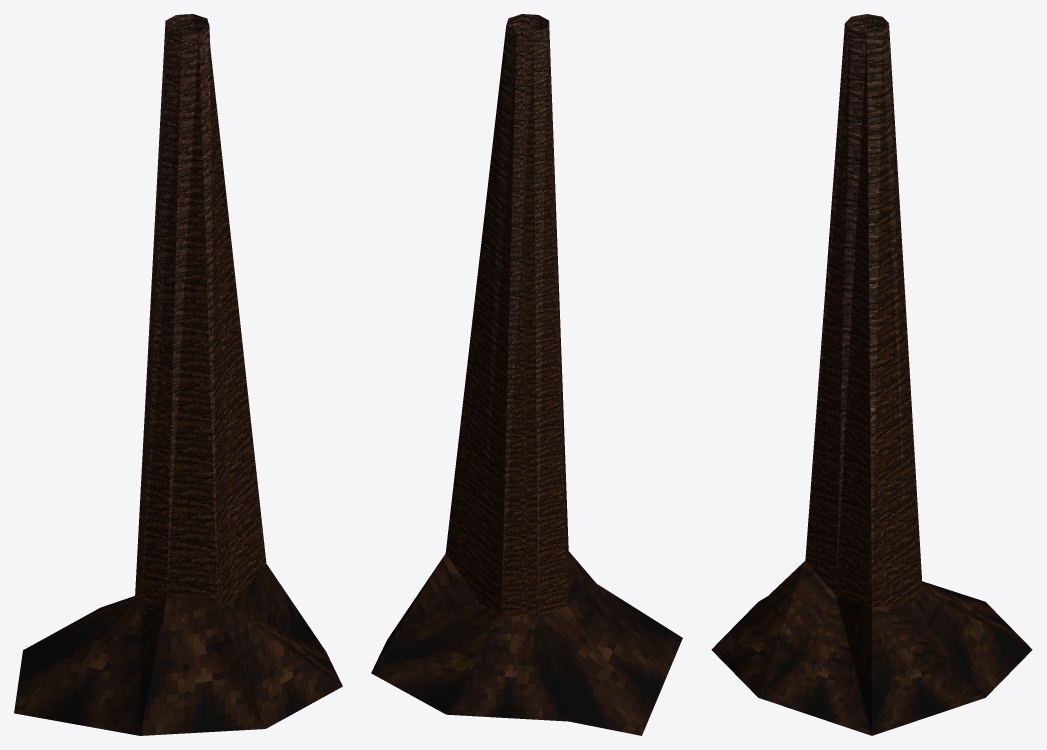
Rendered from primary_117.glb.
3 renders of one model, left to right at view 1: azimuth 30°, elevation 25°; view 2: azimuth 150°, elevation 25°; view 3: azimuth 270°, elevation 25°, orthographic. The views are drawn at different scales.
Visible parts, largest first — view 1: Object; view 2: Object; view 3: Object.
Part boxes in pixels (x1,y1,x2,y2): Object: (14, 14, 342, 735); Object: (371, 14, 682, 735); Object: (711, 14, 1032, 735).
Size of the model in its own units: 6.37 by 14.33 by 6.37.
Materials: 4 (4 with a texture image).
